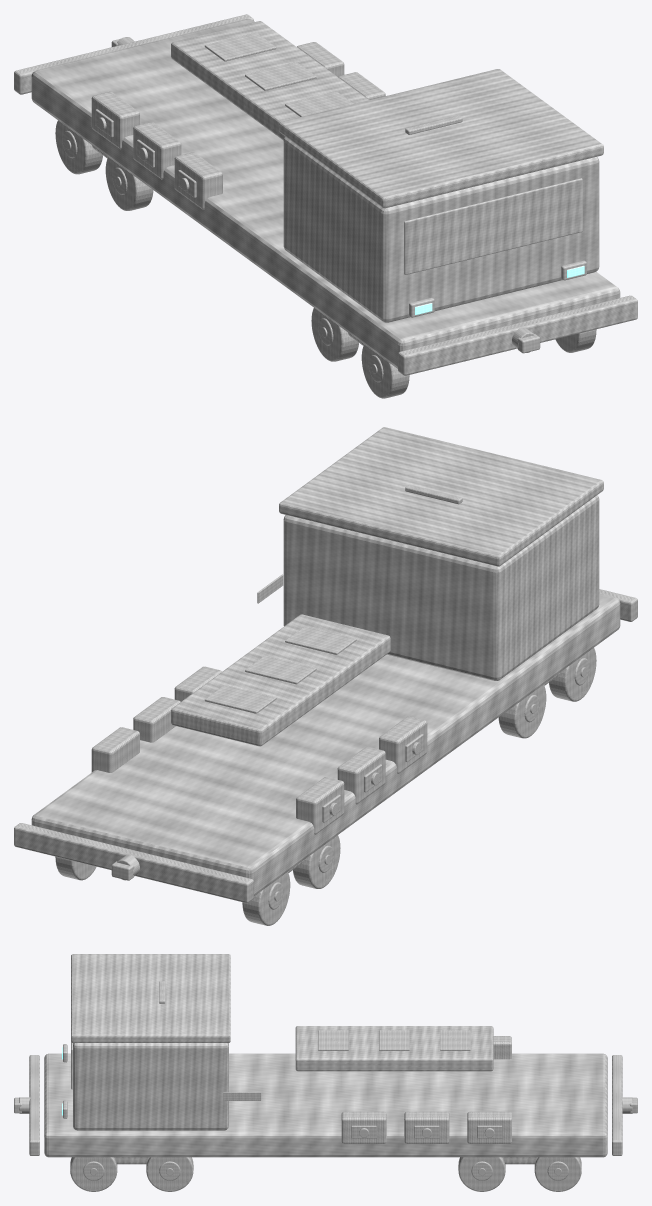
File: locomotive_variant_b.glb
3 views of the same model, one above another, from view 1: azimuth 30°, elevation 25°; view 2: azimuth 150°, elevation 25°; view 3: azimuth 270°, elevation 25° (orthographic). The views are drawn at different scales.
Visible parts, largest first — view 1: Locomotive underframe.001, Armored front cab, Amber roof fairing, Panoramic windshield, Roof equipment spine.001, Front buffer beam.001, Traction motor housing.006, Rear buffer beam.001, Traction motor housing.008, Traction motor housing.007, Rail wheel.012, Rail wheel.008 (+8 smaller); view 2: Locomotive underframe.001, Armored front cab, Amber roof fairing, Roof equipment spine.001, Rear buffer beam.001, Traction motor housing.008, Traction motor housing.006, Traction motor housing.011, Traction motor housing.007, Traction motor housing.010, Rail wheel.010, Rail wheel.014 (+6 smaller); view 3: Locomotive underframe.001, Amber roof fairing, Armored front cab, Roof equipment spine.001, Traction motor housing.009, Traction motor housing.010, Traction motor housing.011, Rail wheel.011, Rail wheel.013, Rail wheel.009, Rail wheel.015, Front buffer beam.001 (+6 smaller).
Part boxes in pixels (x1,y1,x2,y2): Locomotive underframe.001: (31, 19, 620, 368); Armored front cab: (283, 137, 599, 322); Amber roof fairing: (279, 69, 603, 208); Panoramic windshield: (404, 178, 582, 274); Roof equipment spine.001: (171, 21, 368, 140); Front buffer beam.001: (398, 295, 637, 375); Traction motor housing.006: (174, 152, 222, 209); Rear buffer beam.001: (14, 14, 253, 94); Traction motor housing.008: (91, 91, 139, 149); Traction motor housing.007: (133, 122, 181, 179); Rail wheel.012: (105, 157, 153, 210); Rail wheel.008: (361, 344, 409, 398); Locomotive underframe.001: (31, 593, 620, 895); Armored front cab: (283, 495, 599, 680); Amber roof fairing: (279, 427, 603, 566); Roof equipment spine.001: (171, 614, 390, 746); Rear buffer beam.001: (14, 823, 253, 902); Traction motor housing.008: (296, 777, 344, 834); Traction motor housing.006: (379, 716, 427, 773); Traction motor housing.011: (91, 727, 139, 772); Traction motor housing.007: (337, 746, 385, 804); Traction motor housing.010: (133, 697, 180, 742); Rail wheel.010: (498, 684, 546, 738); Rail wheel.014: (242, 872, 290, 925); Locomotive underframe.001: (44, 1053, 607, 1157); Amber roof fairing: (71, 954, 230, 1042); Armored front cab: (73, 1043, 228, 1130); Roof equipment spine.001: (295, 1026, 493, 1071); Traction motor housing.009: (341, 1111, 386, 1143); Traction motor housing.010: (404, 1111, 449, 1143); Traction motor housing.011: (467, 1111, 511, 1143); Rail wheel.011: (146, 1157, 193, 1191); Rail wheel.013: (458, 1157, 505, 1191); Rail wheel.009: (70, 1157, 117, 1191); Rail wheel.015: (534, 1157, 581, 1191); Front buffer beam.001: (29, 1055, 39, 1155).
Size of what is drawn, in the model's own units: 5.4 by 4.74 by 16.39.
Materials: 6 (6 with a texture image).
